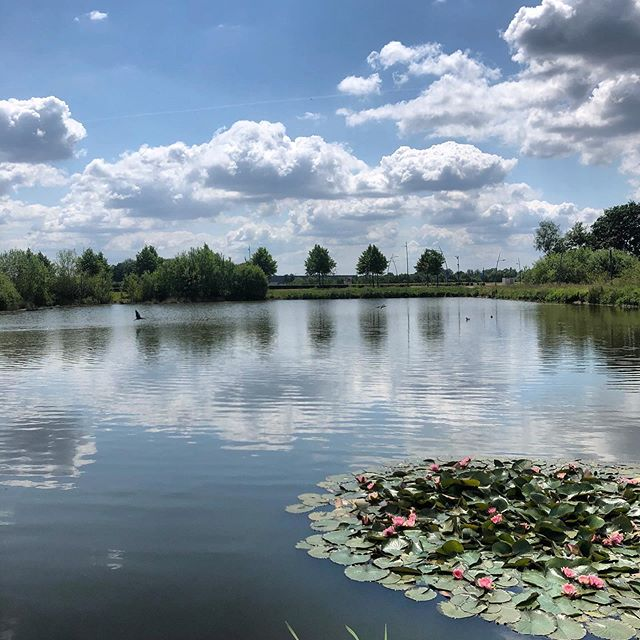river: (1, 299, 622, 640)
sky: (17, 1, 640, 249)
tree: (356, 244, 389, 286), (300, 241, 333, 283), (412, 242, 445, 284), (245, 243, 278, 285)
vegetation: (1, 248, 272, 300), (523, 217, 640, 292)
